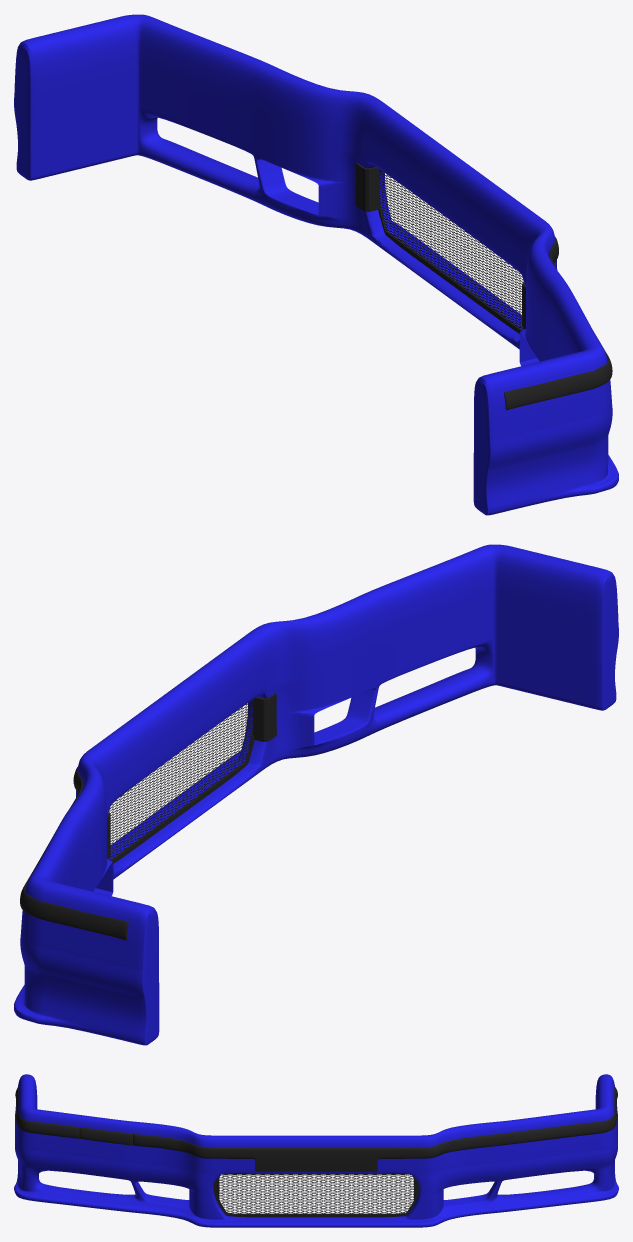
The model's file is bumper2.glb.
The picture shows the model from 3 angles, top to bottom: view 1: azimuth 30°, elevation 25°; view 2: azimuth 150°, elevation 25°; view 3: azimuth 270°, elevation 25°; orthographic projection. The views are drawn at different scales.
Visible parts, largest first — view 1: Bumper, grid, top_molding; view 2: Bumper, grid, top_molding; view 3: Bumper, top_molding, grid.
Boxes of the visible parts, bbox=[...] form: Bumper: bbox=[14, 14, 618, 515]; grid: bbox=[356, 163, 525, 333]; top_molding: bbox=[504, 237, 612, 410]; Bumper: bbox=[14, 544, 618, 1045]; grid: bbox=[107, 693, 276, 863]; top_molding: bbox=[20, 767, 128, 940]; Bumper: bbox=[14, 1074, 618, 1227]; top_molding: bbox=[15, 1086, 617, 1171]; grid: bbox=[213, 1173, 419, 1217].
Bounding box in the file's own units: 3.28 × 1.85 × 11.91.
Materials: 3 (1 with a texture image).
